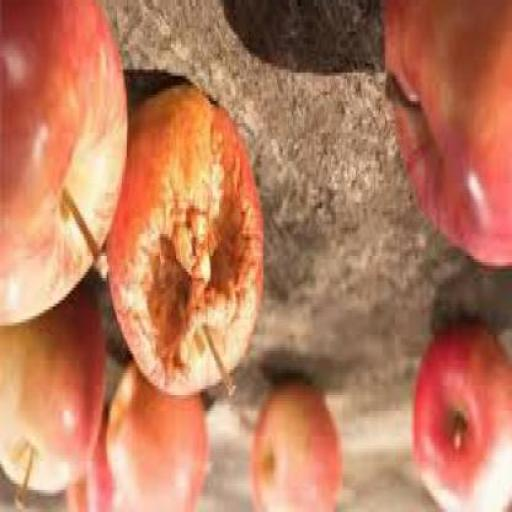biodegradable: (104, 85, 264, 405), (0, 3, 126, 332), (382, 3, 510, 269), (0, 280, 107, 510), (410, 328, 511, 510), (104, 364, 206, 511), (245, 379, 338, 511), (62, 408, 110, 511)
